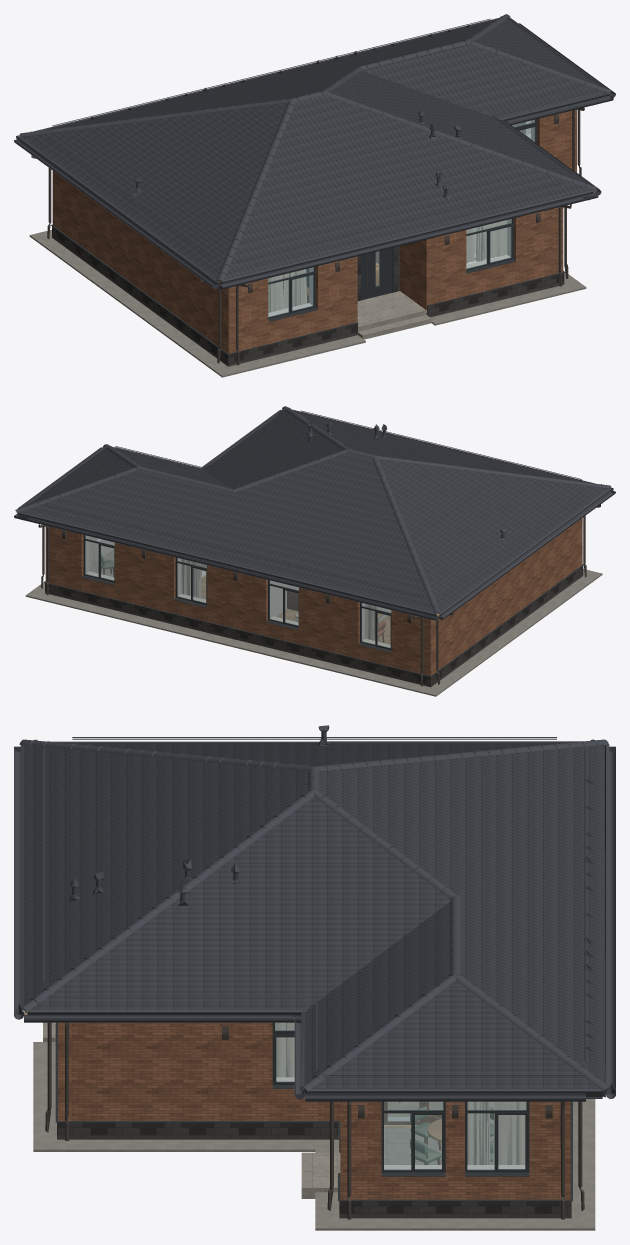
The model's file is Granat.glb.
3 views of the same model, one above another, from view 1: azimuth 30°, elevation 25°; view 2: azimuth 150°, elevation 25°; view 3: azimuth 270°, elevation 25° (orthographic). The views are drawn at different scales.
Parts seen in each view (by area): view 1: RoofOriginal__roof, Base__facade, RoofOriginal__trim, Base__plinth, Base__apron, Base__frames, Base__glass, Base__deck, Curtains__linen, Base__metalwork, TerrEnclosure__facade, Base__accent (+2 smaller); view 2: RoofOriginal__roof, Base__facade, RoofOriginal__trim, Base__apron, Base__plinth, TerrEnclosure__facade, Base__glass, Base__frames, Base__wall, Curtains__linen, TerrEnclosure__plinth, TerrApron__apron (+6 smaller); view 3: RoofOriginal__roof, RoofOriginal__trim, Base__facade, TerrEnclosure__facade, TerrApron__apron, TerrEnclosure__glass, Base__plinth, TerrEnclosure__frames, TerrEnclosure__plinth, TerrLights__linen, TerrDeck__deck, Base__apron (+6 smaller).
Part boxes in pixels (x1,y1,x2,y2): RoofOriginal__roof: [23, 19, 604, 281]; Base__facade: [52, 171, 563, 353]; RoofOriginal__trim: [14, 14, 615, 289]; Base__plinth: [52, 226, 564, 366]; Base__apron: [29, 229, 571, 377]; Base__frames: [50, 218, 563, 354]; Base__glass: [268, 219, 511, 316]; Base__deck: [357, 291, 431, 339]; Curtains__linen: [268, 220, 507, 312]; Base__metalwork: [31, 155, 571, 365]; TerrEnclosure__facade: [537, 109, 576, 172]; Base__accent: [400, 240, 424, 308]; RoofOriginal__roof: [22, 410, 607, 613]; Base__facade: [141, 518, 582, 675]; RoofOriginal__trim: [14, 406, 615, 620]; Base__apron: [133, 569, 602, 696]; Base__plinth: [141, 566, 583, 687]; TerrEnclosure__facade: [45, 526, 141, 605]; Base__glass: [177, 558, 390, 647]; Base__frames: [140, 557, 583, 677]; Base__wall: [177, 558, 440, 647]; Curtains__linen: [181, 559, 377, 640]; TerrEnclosure__plinth: [45, 583, 140, 616]; TerrApron__apron: [25, 581, 140, 622]; RoofOriginal__roof: [24, 742, 605, 1088]; RoofOriginal__trim: [14, 725, 615, 1101]; Base__facade: [58, 1022, 340, 1120]; TerrEnclosure__facade: [340, 1101, 570, 1199]; TerrApron__apron: [33, 1139, 595, 1230]; TerrEnclosure__glass: [338, 1102, 572, 1169]; Base__plinth: [57, 1122, 338, 1139]; TerrEnclosure__frames: [55, 1101, 572, 1201]; TerrEnclosure__plinth: [339, 1139, 571, 1218]; TerrLights__linen: [467, 1101, 526, 1164]; TerrDeck__deck: [301, 1128, 493, 1198]; Base__apron: [33, 1042, 595, 1139].
Size of the model in its own units: 17.05 by 5.68 by 12.2.
29 materials, 18 textured.
